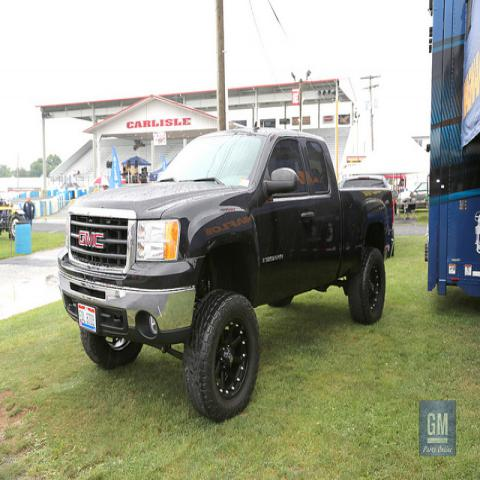car: (397, 181, 429, 213)
truck: (58, 129, 397, 420)
